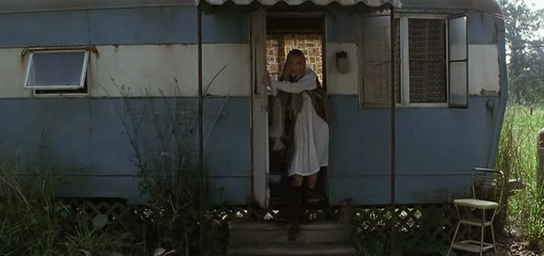face: (288, 54, 301, 77)
ls: (1, 1, 544, 256)
person: (261, 49, 329, 240)
